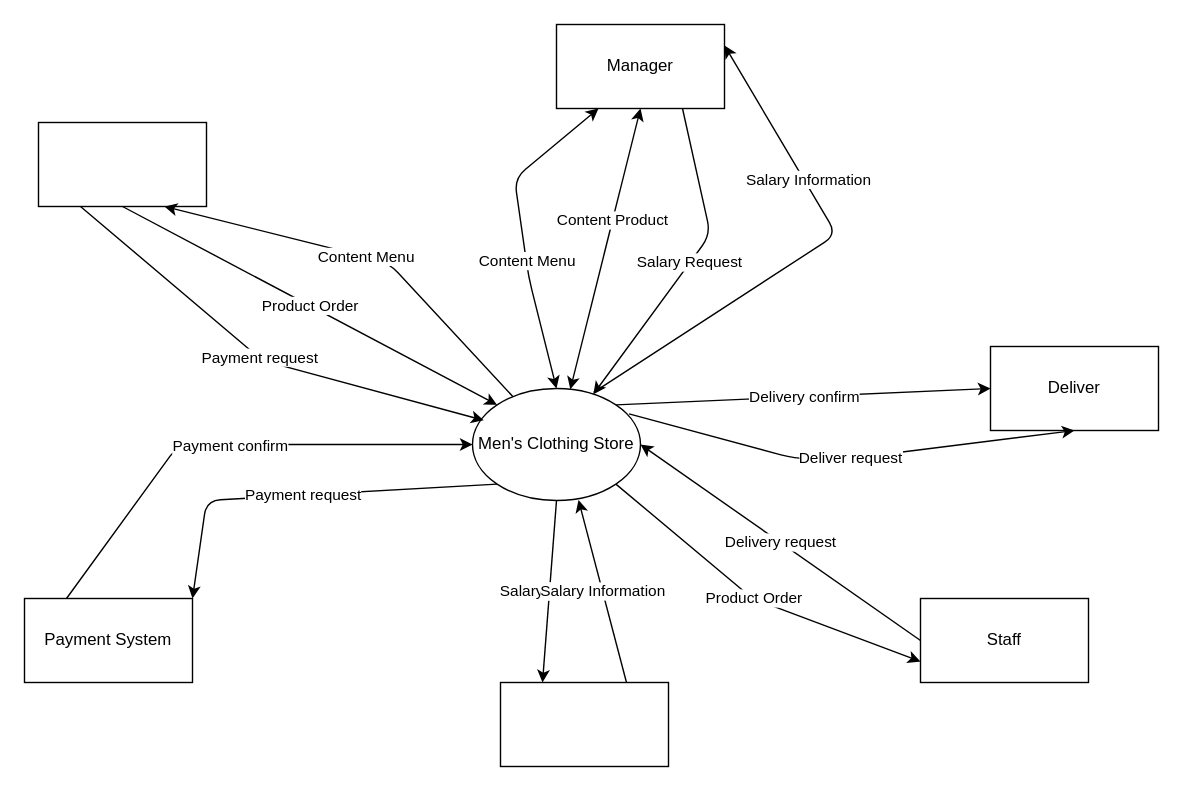
This 1183x791 diagram has some shape labels left out. The shapes that lost their labels are listed below. From the top down, each one's centre as x and y in pixels, then its label:
At point (121, 163): "Customer".
At point (583, 723): "Salary System".
